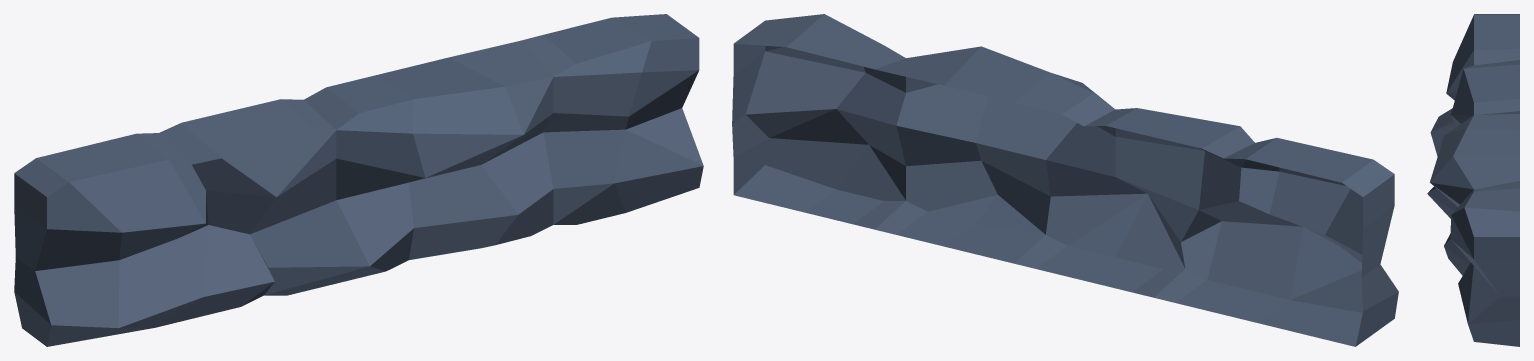
The model's file is castle_wall_stone.fbx.
3 renders of one model, left to right at view 1: azimuth 30°, elevation 25°; view 2: azimuth 150°, elevation 25°; view 3: azimuth 270°, elevation 25°, orthographic. The views are drawn at different scales.
Parts seen in each view (by area): view 1: castle_wall_stone; view 2: castle_wall_stone; view 3: castle_wall_stone.
Boxes of the visible parts, x1,y1,x2,y2 form: castle_wall_stone: (14,14,703,346); castle_wall_stone: (732,14,1398,346); castle_wall_stone: (1427,14,1519,346).
Size of the model in its own units: 8.02 by 2.02 by 1.41.
